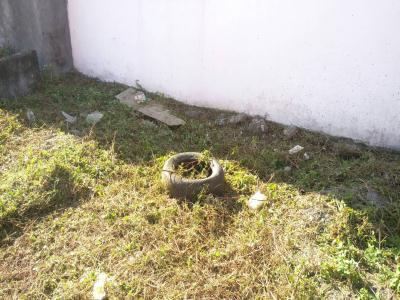tire: (159, 150, 228, 202)
